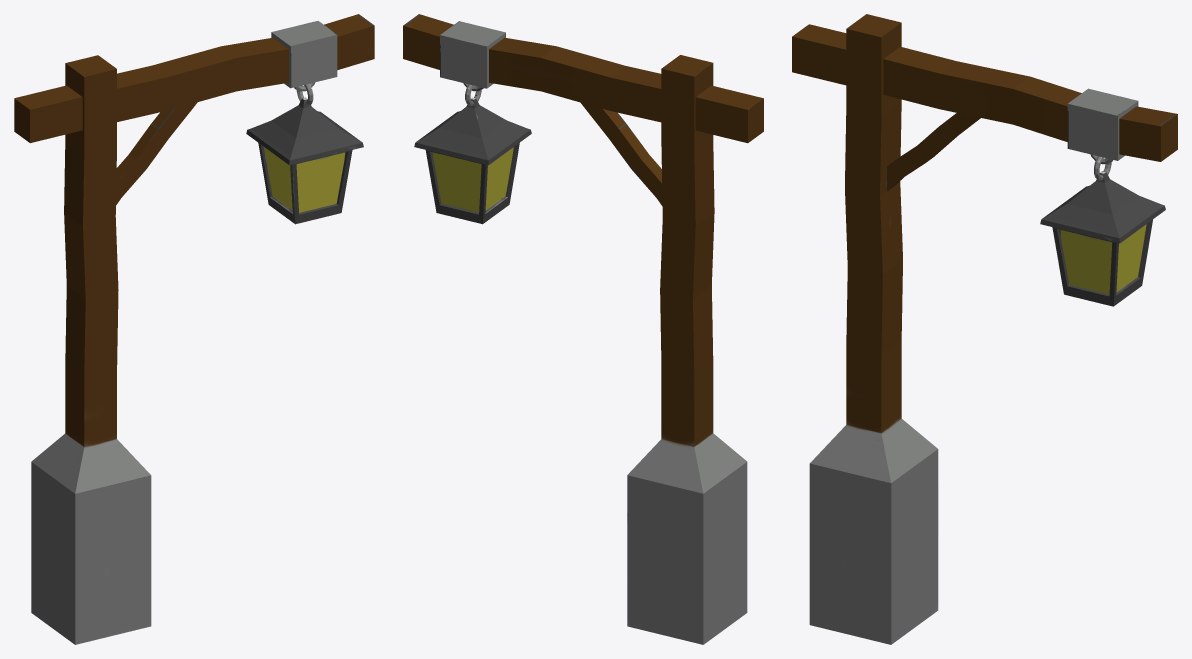
Rendered from lamp.fbx.
3 renders of one model, left to right at view 1: azimuth 30°, elevation 25°; view 2: azimuth 150°, elevation 25°; view 3: azimuth 330°, elevation 25°, orthographic. The views are drawn at different scales.
Visible parts, largest first — view 1: Lamp Post 1; view 2: Lamp Post 1; view 3: Lamp Post 1.
Part boxes in pixels (left/top/right/bottom): Lamp Post 1: left=14, top=14, right=374, bottom=644; Lamp Post 1: left=403, top=14, right=763, bottom=644; Lamp Post 1: left=792, top=14, right=1177, bottom=644.
Size of the model in its own units: 514 by 788 by 113.
